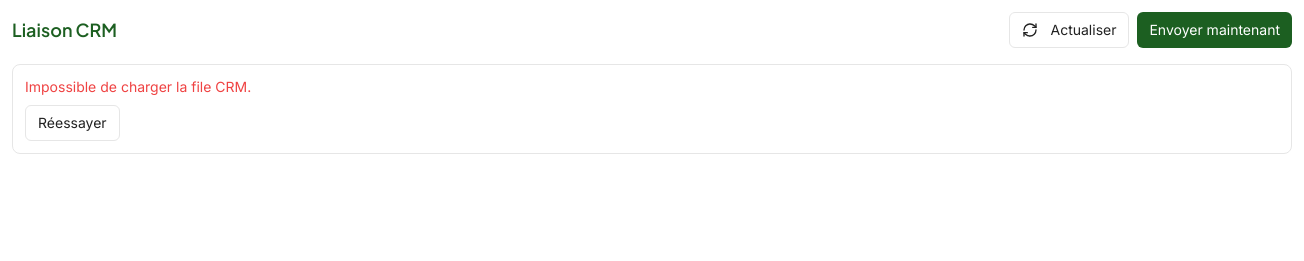
Test: CrmOutboxManager › shows an error with Réessayer instead of an empty queue
This screenshot has width=1304, height=261.
Check: the text "Impossible de charger la file CRM." is shown, box [25,78,251,95]
Step 1. Click the button "Réessayer" → (72, 123), box [25,105,120,141]
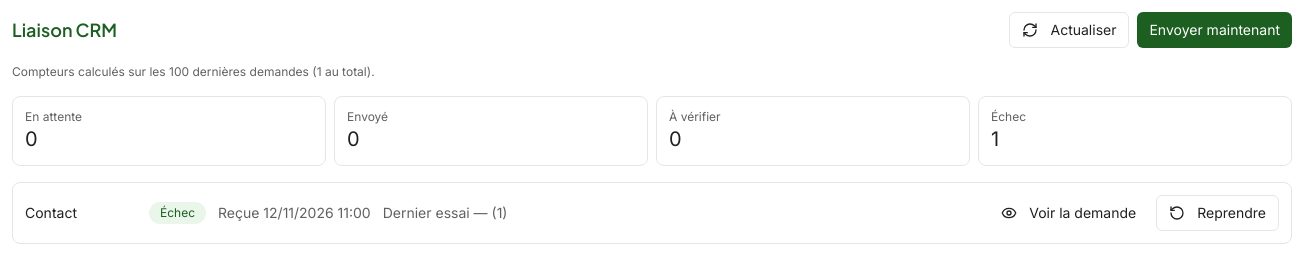
Check: the button "Reprendre" is shown, box [1156,195,1279,231]
